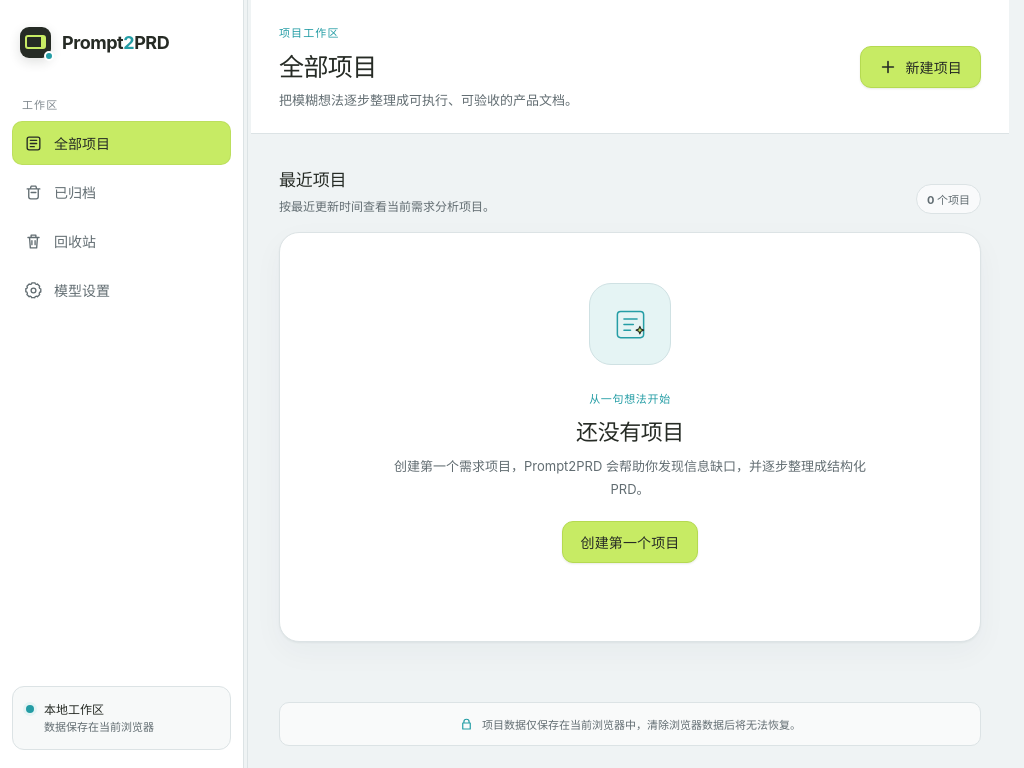
ProjectHomeView › shows view-specific empty states without sample content
Expected: the button with test id "new-project-button" reads "新建项目", [860,46,981,88]
Click the button "已归档" at (122, 192), box [12,170,231,214]
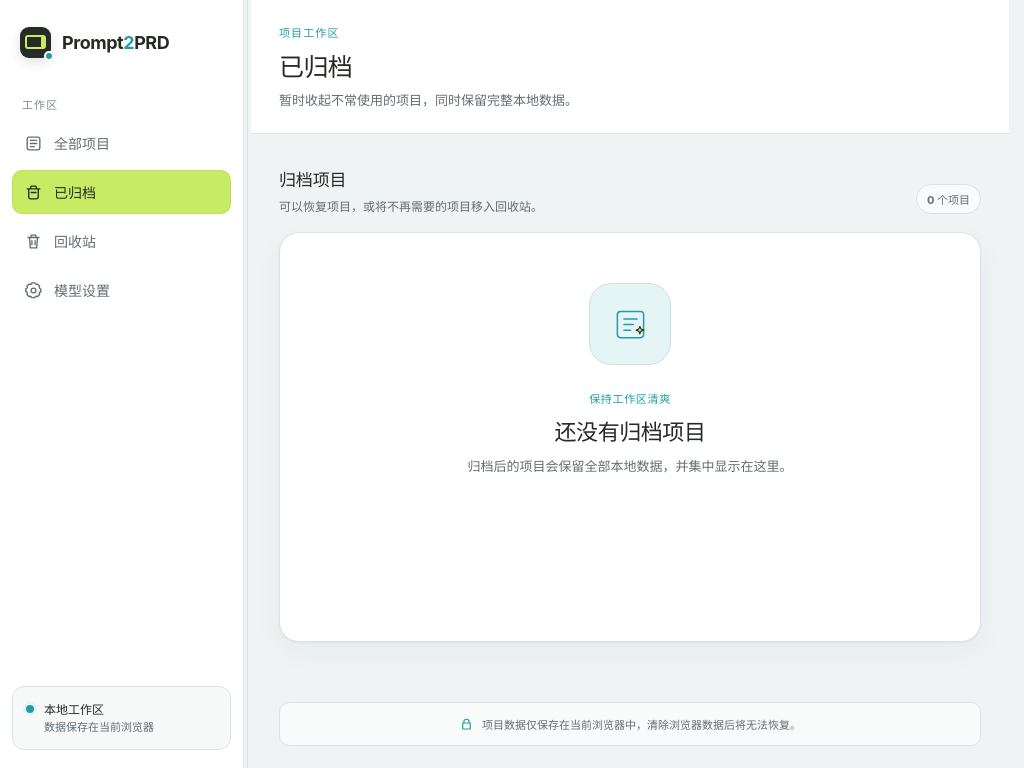
Expected: the text "还没有归档项目" is shown, [554,419,705,445]
Click the button "回收站" at (122, 241), box [12,219,231,263]
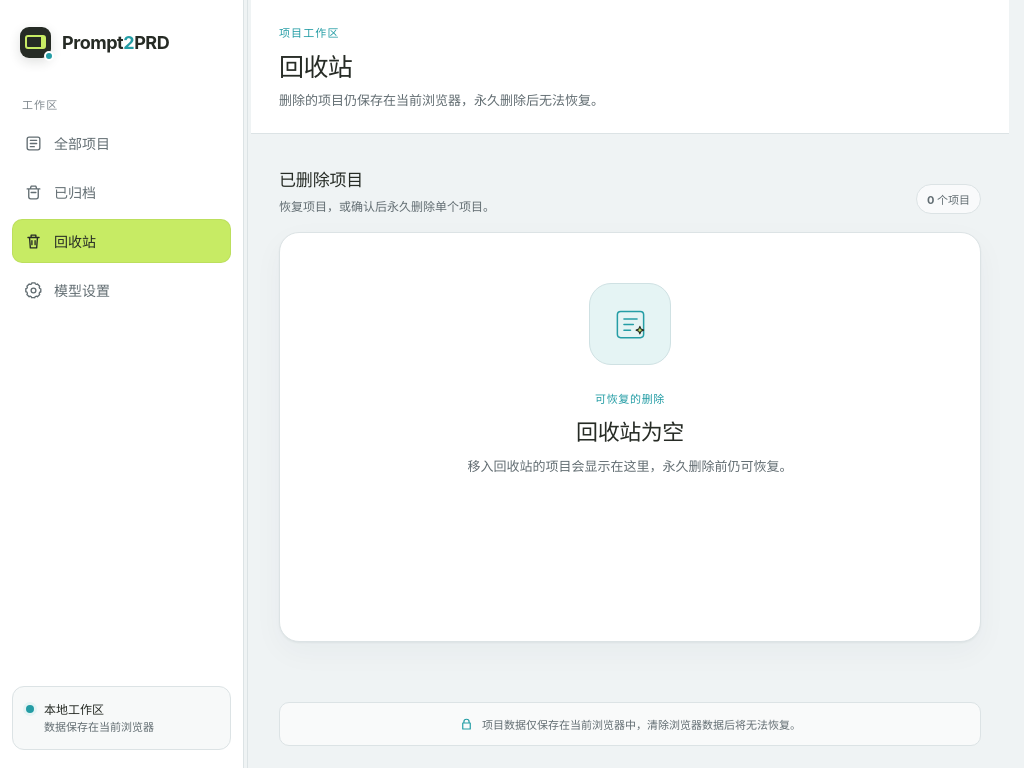
Expected: the text "回收站为空" is shown, [576,419,684,445]
